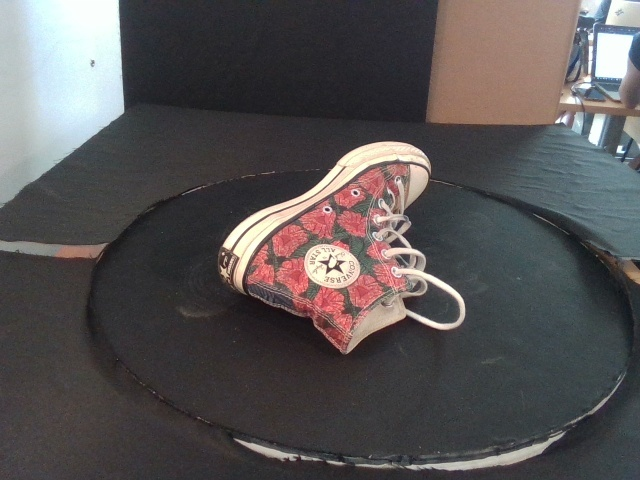shoe: (217, 141, 433, 355)
